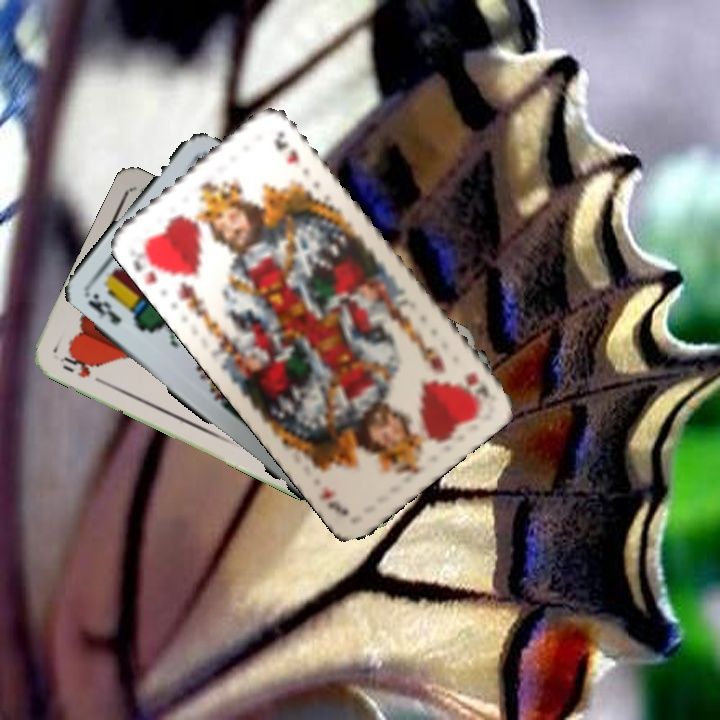EK: (83, 289, 124, 327)
HK: (129, 240, 170, 287), (461, 367, 496, 403)
HO: (55, 348, 109, 388)
